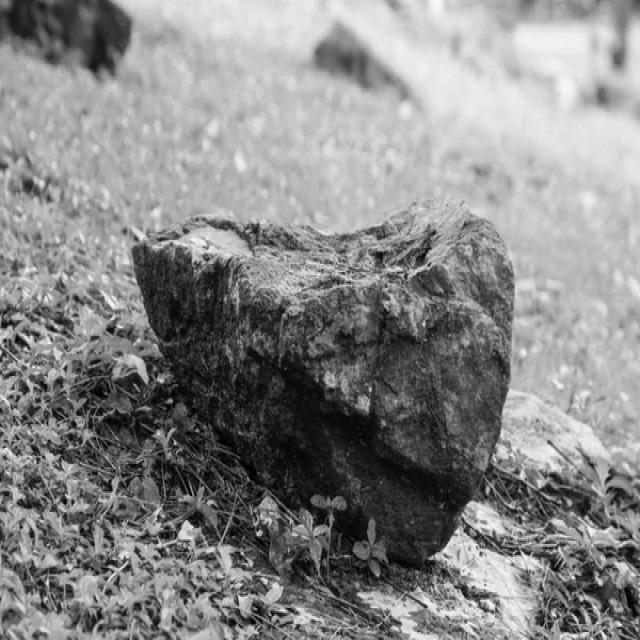Stone: (134, 200, 516, 564)
